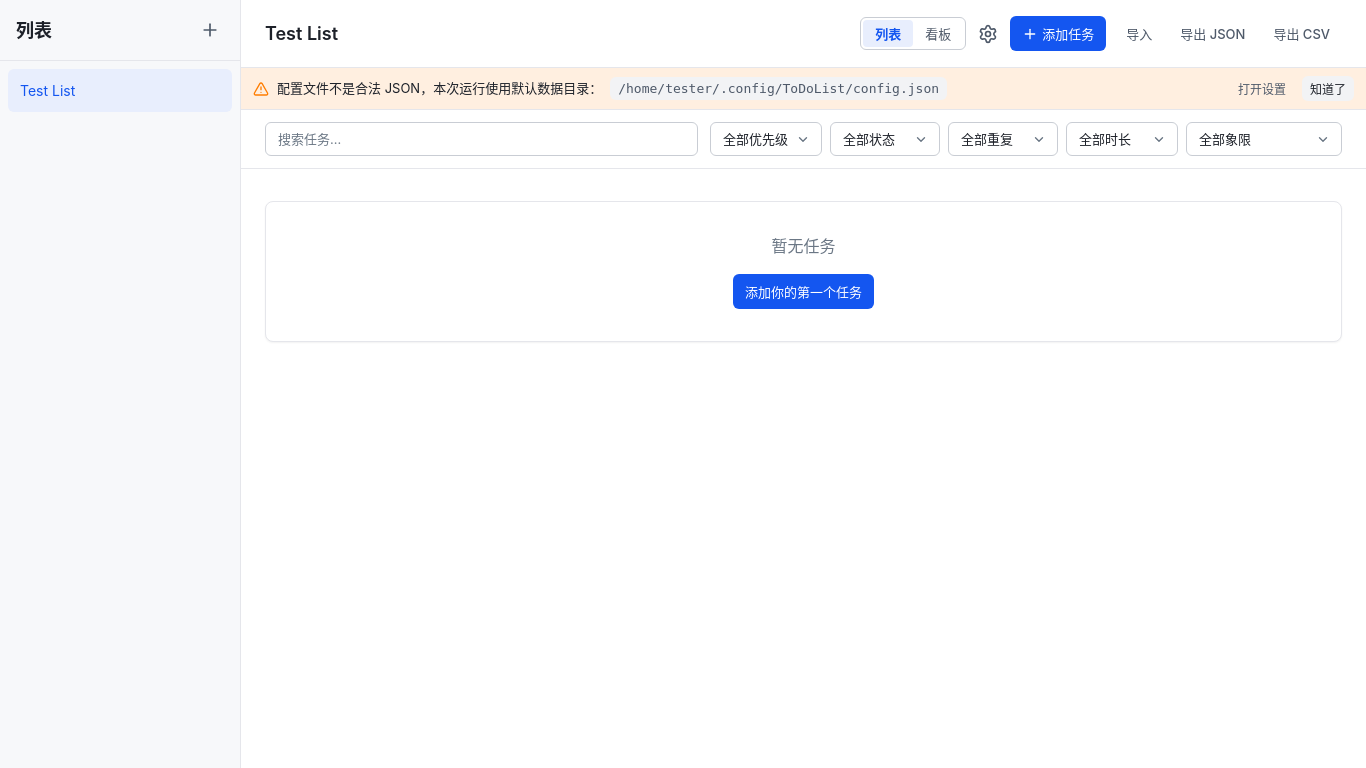
Scenario: 配置未生效提示条 (issue #14) › acknowledges via 知道了 and hides the banner without writing the fingerprint for 打开设置
Check: the message "配置文件不是合法 JSON，本次运行使用默认数据目录： /home/tester/.config/ToDoList/config.json 打开设置 知道了" is shown, box x1=241 y1=68 x2=1365 y2=110
Step 1. Click the button "知道了" → (1328, 88), box x1=1302 y1=76 x2=1354 y2=101
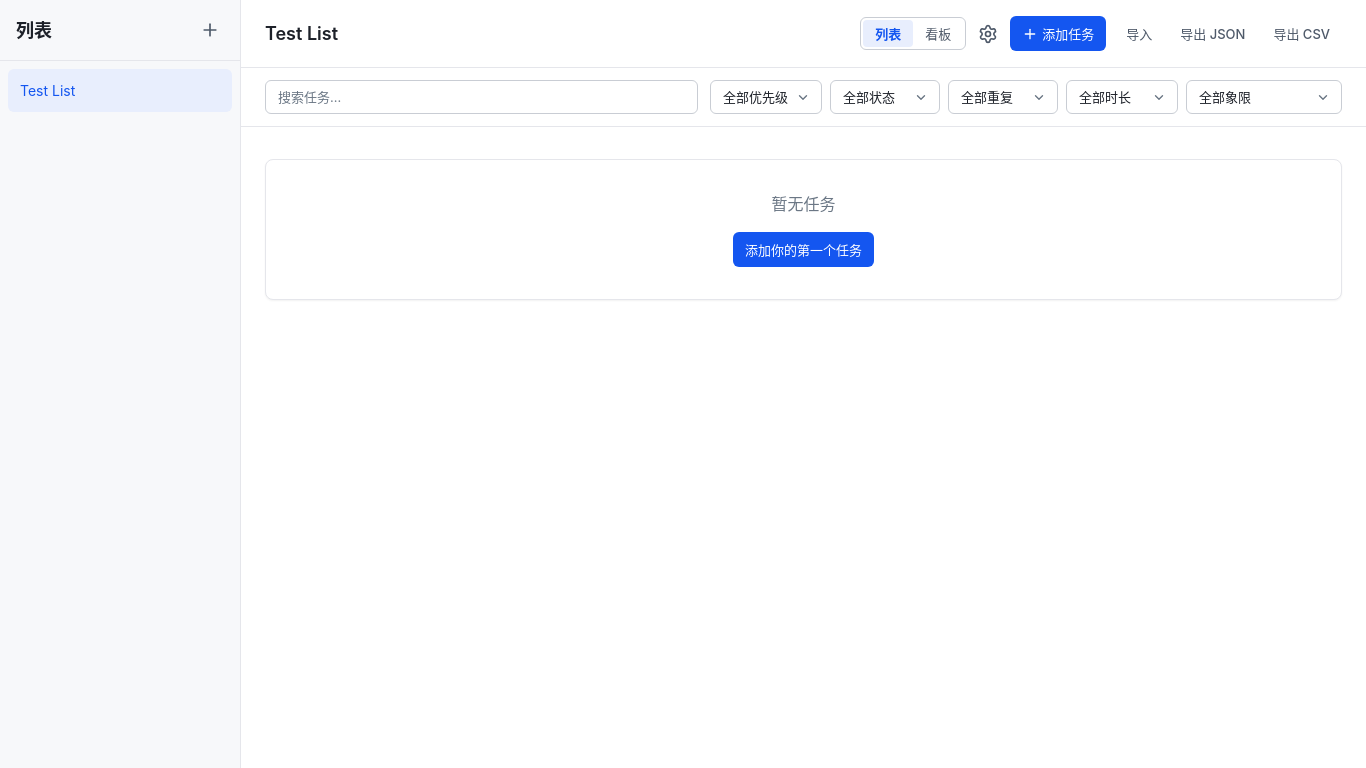
Check: the message with test id "config-notice" is gone
